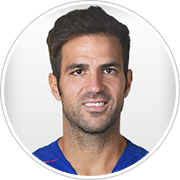smile: (80, 98, 108, 110)
